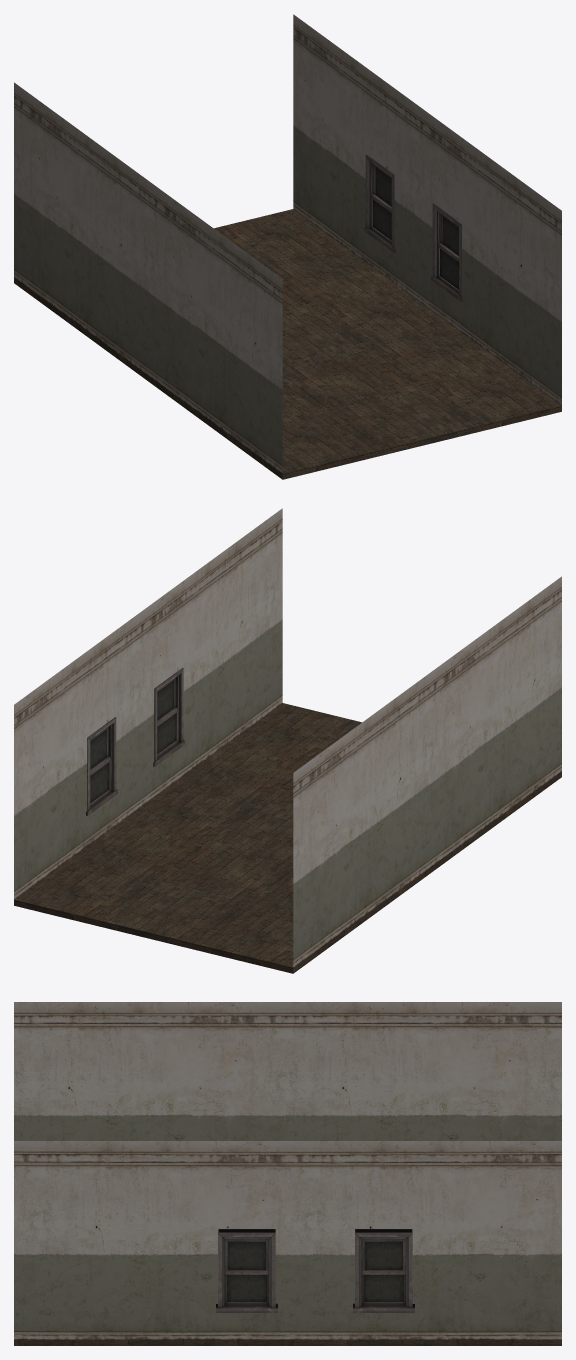
File: hallway_finished_10m_windows_right.fbx
3 views of the same model, one above another, from view 1: azimuth 30°, elevation 25°; view 2: azimuth 150°, elevation 25°; view 3: azimuth 270°, elevation 25° (orthographic).
Parts seen in each view (by area): view 1: hallway_finished_10m_windows_right; view 2: hallway_finished_10m_windows_right; view 3: hallway_finished_10m_windows_right.
Part boxes in pixels (x1=…): hallway_finished_10m_windows_right: x1=14, y1=14, x2=561, y2=479; hallway_finished_10m_windows_right: x1=14, y1=508, x2=561, y2=973; hallway_finished_10m_windows_right: x1=14, y1=1002, x2=561, y2=1345.
Size of the model in its own units: 623 by 412 by 1000.
